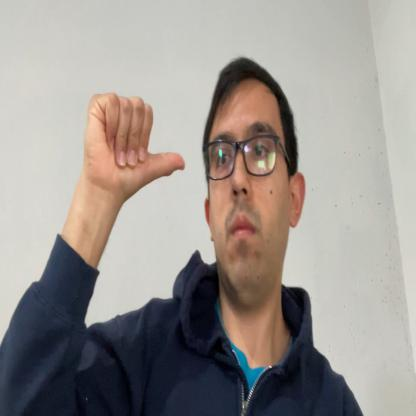A: (85, 91, 186, 199)
